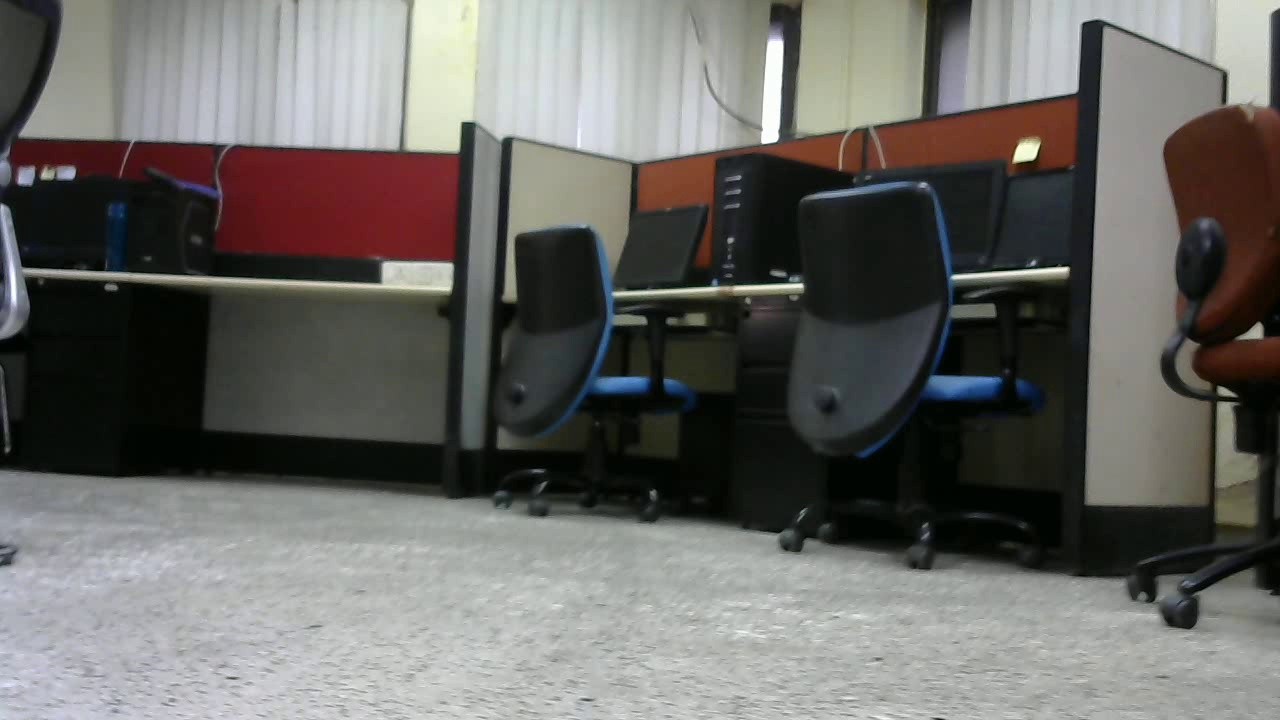chair: (783, 184, 1049, 567), (503, 227, 692, 522)
